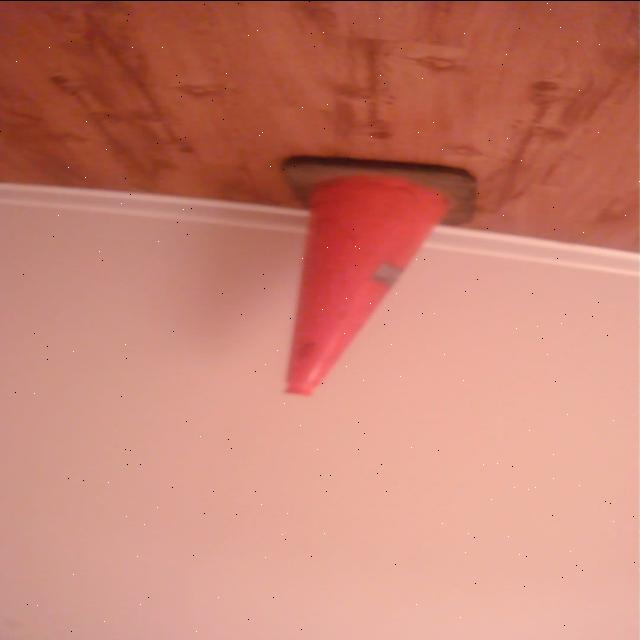traffic cone: (275, 151, 487, 399)
